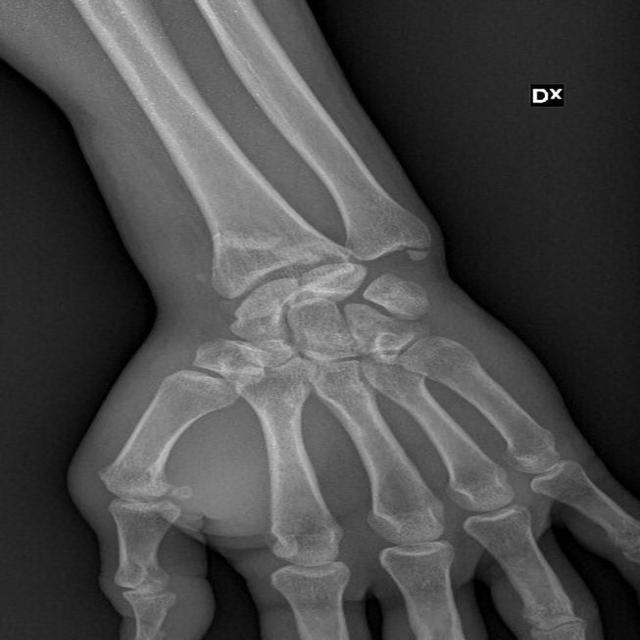bone: (354, 235, 452, 294)
